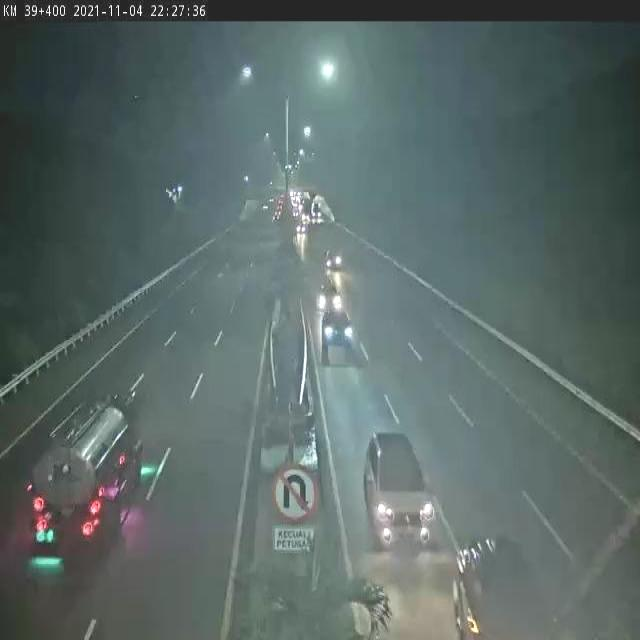Car: (440, 537, 557, 640), (361, 423, 435, 549), (322, 319, 361, 367), (316, 244, 349, 284), (312, 282, 346, 318)
Truck: (20, 387, 149, 591)
